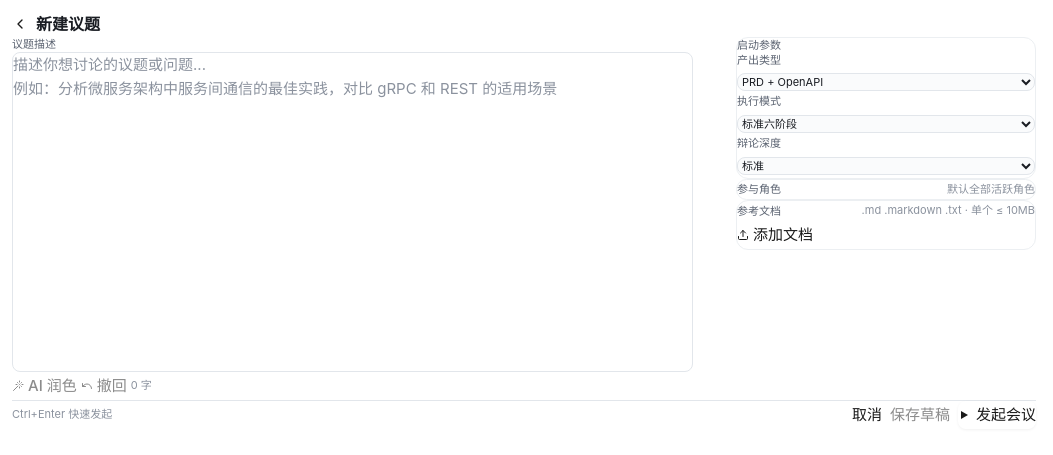
it: BoardNewPage 新建议题页 › 空议题点击发起 → 显示校验错误且不发起请求（非正向）
Click the button "发起会议". click: coordinates (997, 414)
box: [958,400,1036,428]
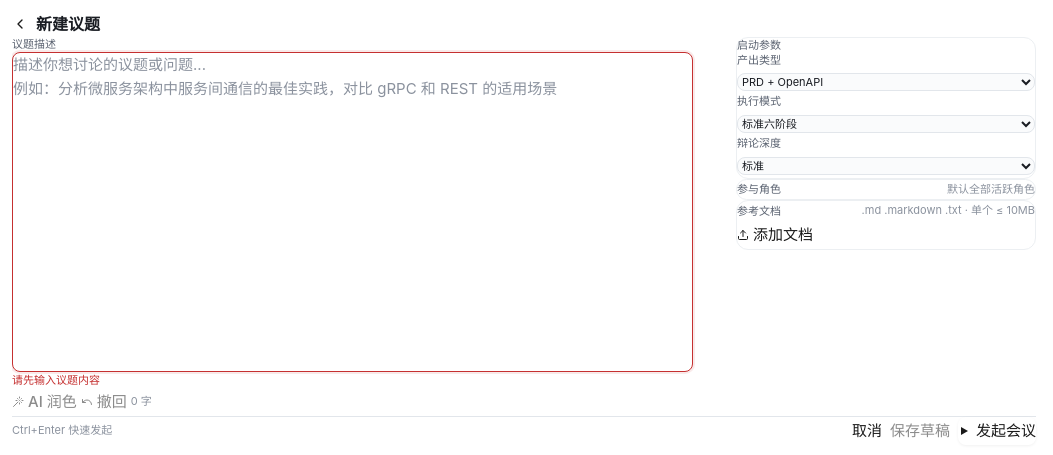
Now the text "请先输入议题内容" is shown, box [12,372,100,386]
